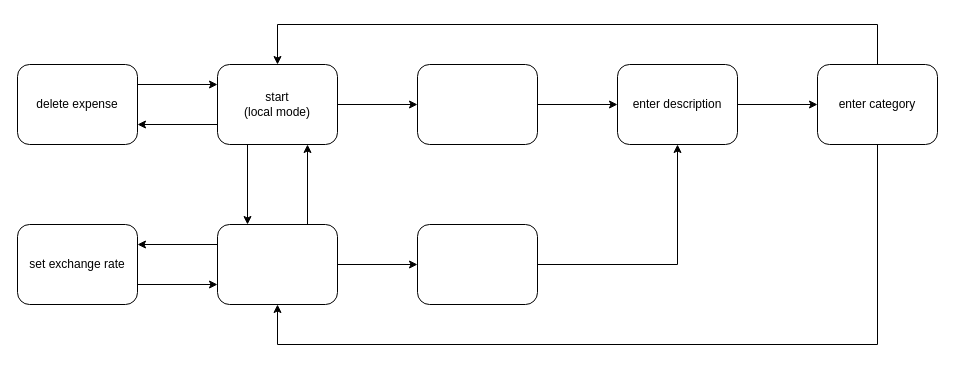
The diagram is 955 pixels wide and 370 high, and some of its shapes have lost their labels. The box of each missing label's shape, as (x1, y1, x2, y2) in pixels:
enter amount (SGD or overseas): (416, 224, 538, 304)
enter amount (SGD): (416, 64, 538, 144)
start (overseas mode): (216, 224, 338, 304)
